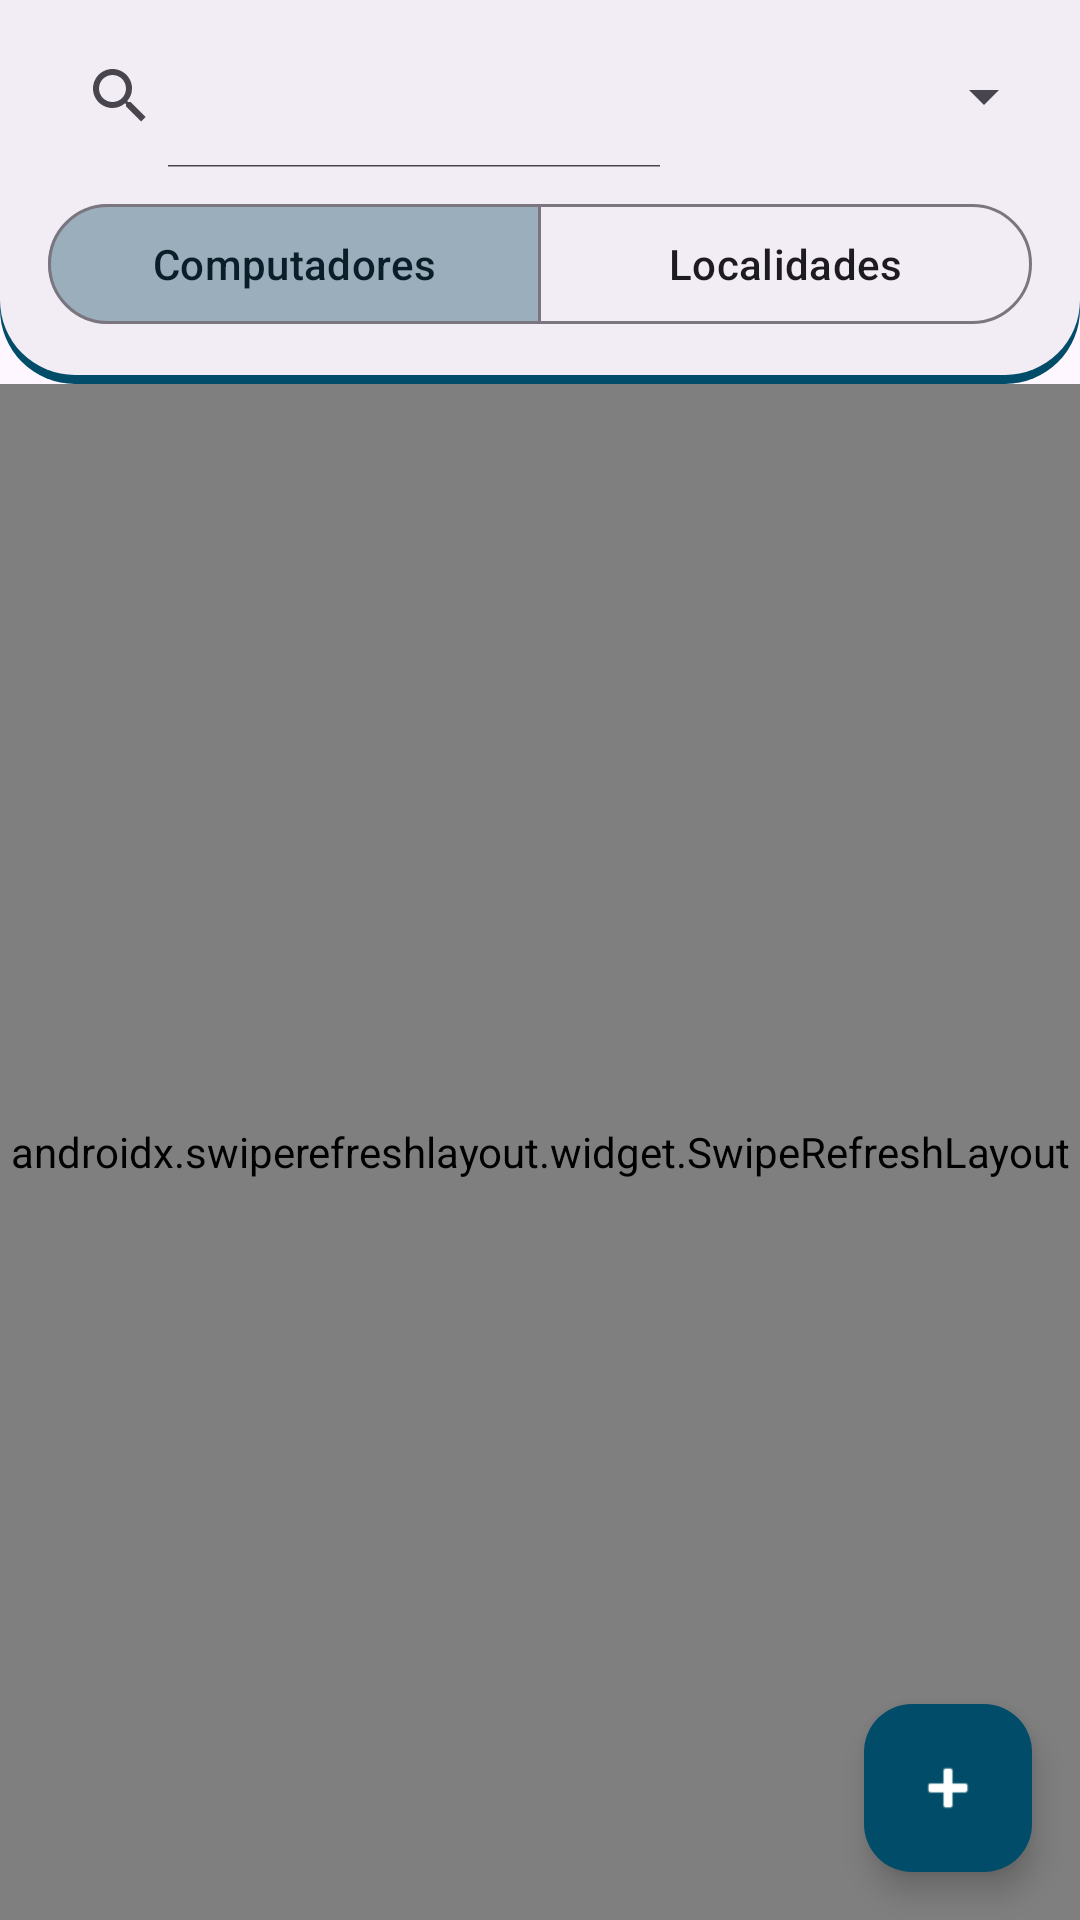

Locate icon controls on the screen. Image size 1080x1920, boxes as (x1, y1, x2, y2).
Adicionar Vínculo de Senha: (864, 1704, 1032, 1872)
